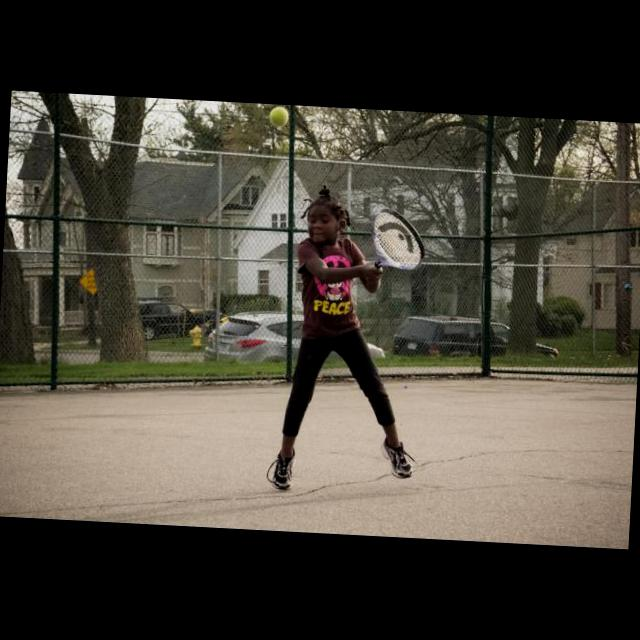tennis-ball: (268, 105, 289, 126)
